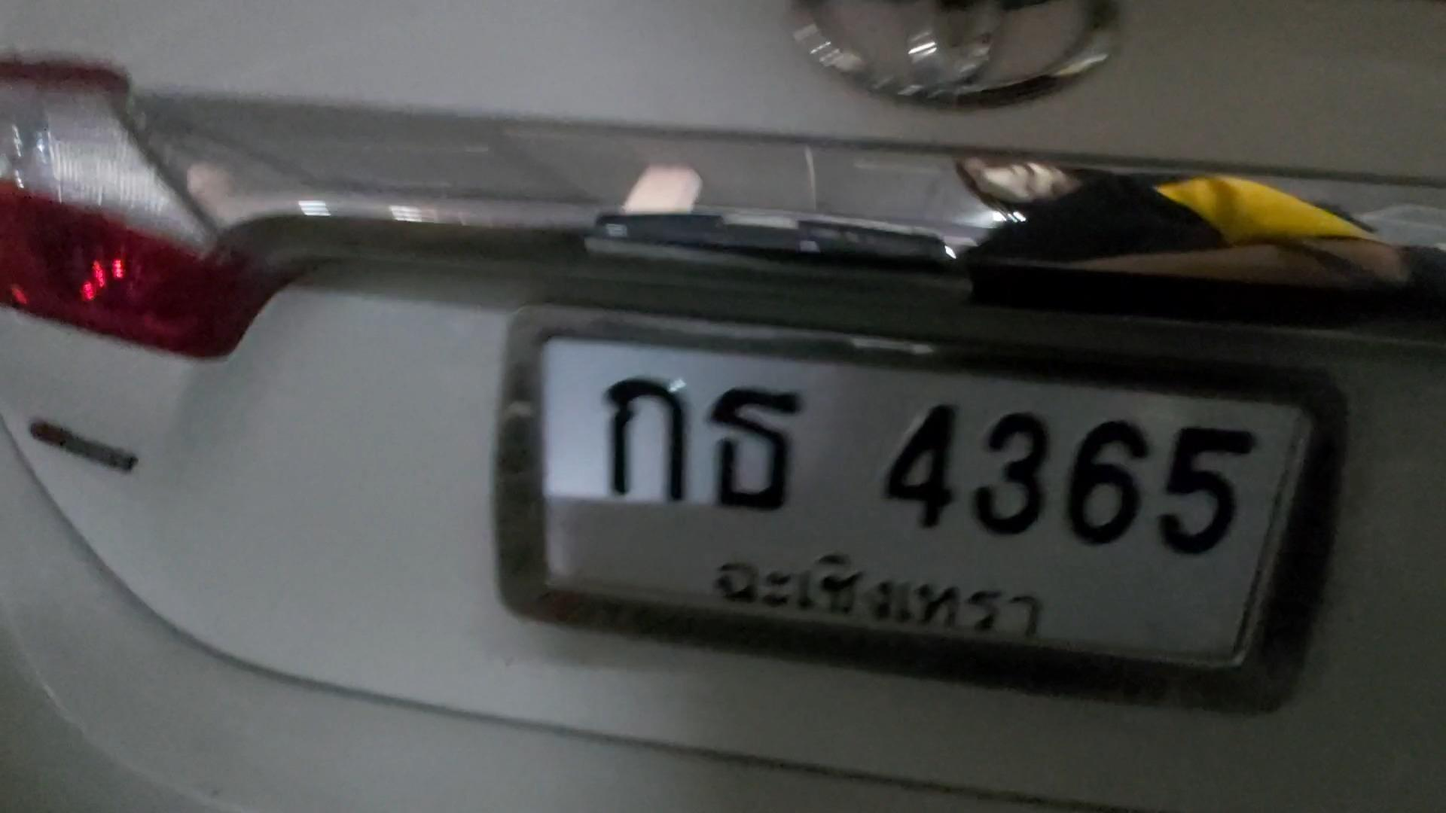license-plate: (542, 335, 1313, 676)
